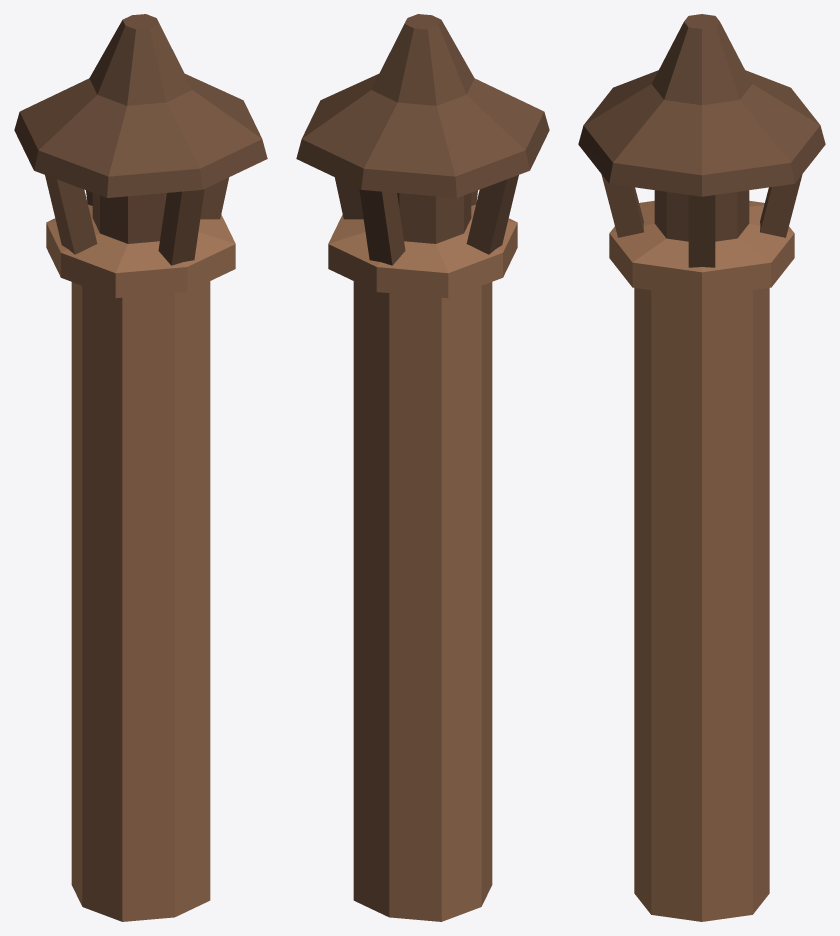
File: SM_Prop_Chimney_01.glb
3 renders of one model, left to right at view 1: azimuth 30°, elevation 25°; view 2: azimuth 150°, elevation 25°; view 3: azimuth 270°, elevation 25°, orthographic.
Parts seen in each view (by area): view 1: SM_Prop_Chimney_01_part00; view 2: SM_Prop_Chimney_01_part00; view 3: SM_Prop_Chimney_01_part00.
Boxes of the visible parts, bbox=[...] form: SM_Prop_Chimney_01_part00: bbox=[14, 14, 267, 921]; SM_Prop_Chimney_01_part00: bbox=[296, 14, 549, 921]; SM_Prop_Chimney_01_part00: bbox=[578, 14, 825, 921].
Size of the model in its own units: 0.4326 by 1.68 by 0.4326.
Materials: 1 (1 with a texture image).
